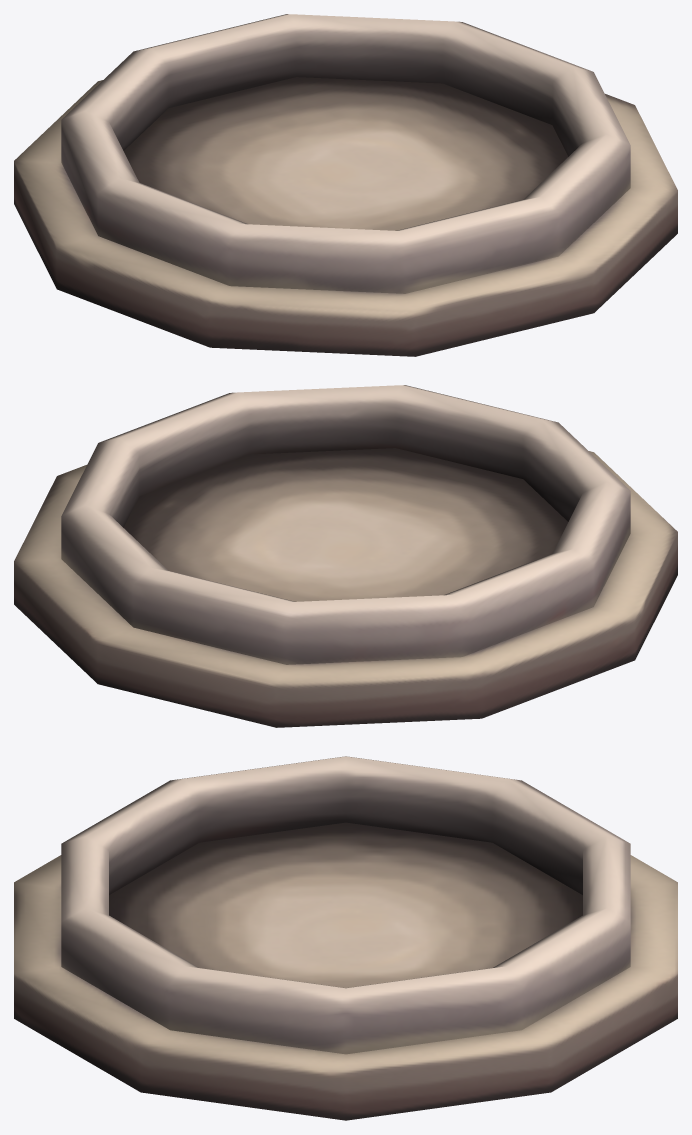
File: SocleJeton.FBX
3 renders of one model, top to bottom at view 1: azimuth 30°, elevation 25°; view 2: azimuth 150°, elevation 25°; view 3: azimuth 270°, elevation 25°, orthographic. The views are drawn at different scales.
Parts seen in each view (by area): view 1: SocleJeton; view 2: SocleJeton; view 3: SocleJeton.
Boxes of the visible parts, x1=… form: SocleJeton: x1=14, y1=14, x2=677, y2=356; SocleJeton: x1=14, y1=385, x2=677, y2=727; SocleJeton: x1=14, y1=756, x2=677, y2=1120.
Size of the model in its own units: 1.4 by 0.2226 by 1.33.
